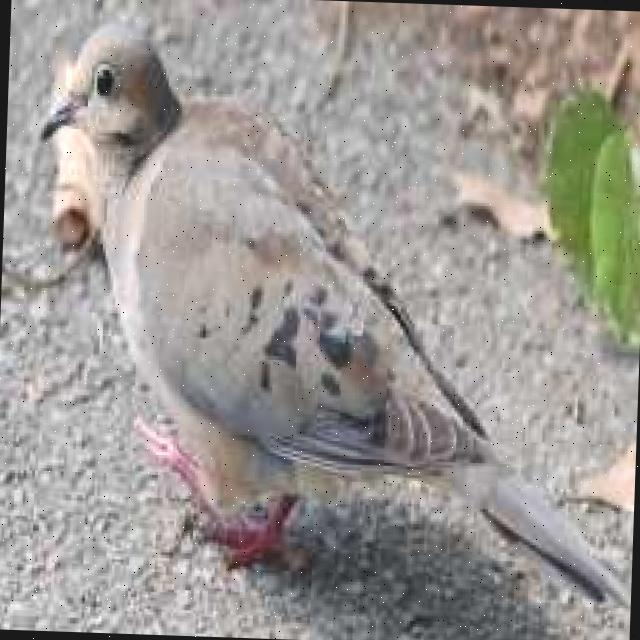dove: (22, 18, 640, 616)
